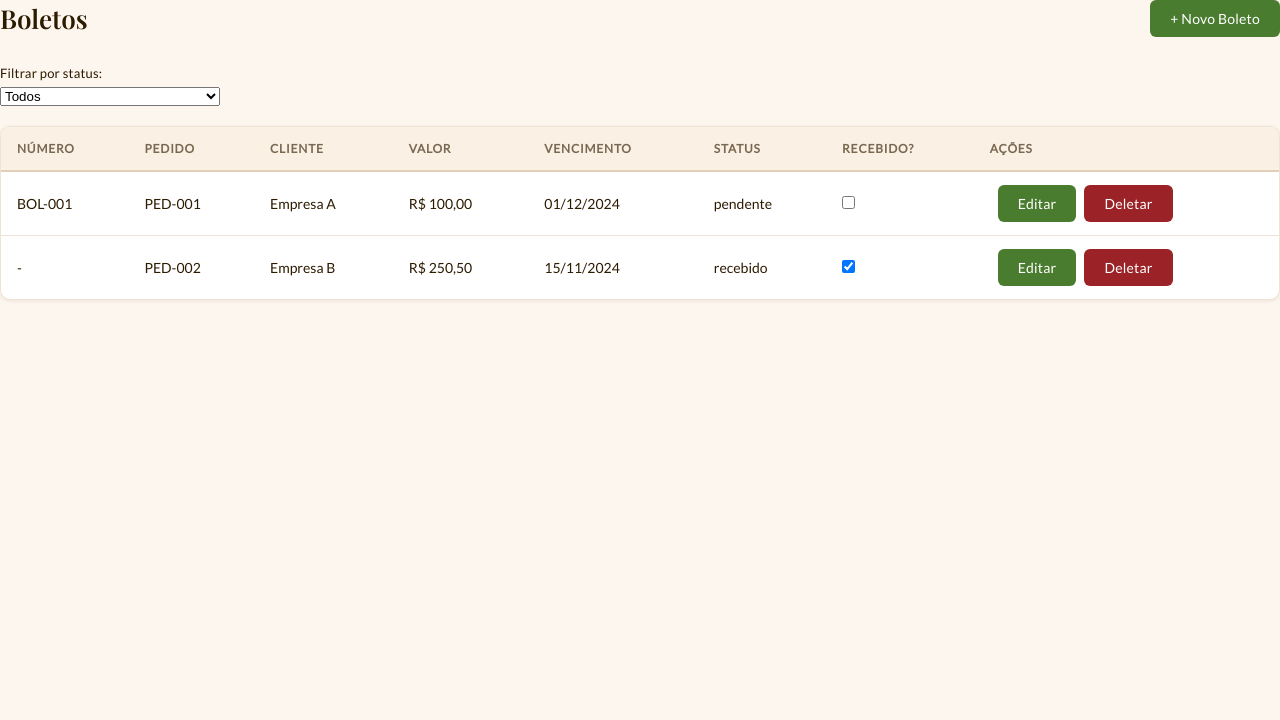
Boletos › abre modal de novo boleto ao clicar no botão
Expected: the text "BOL-001" is shown, [1, 171, 128, 236]
Click the button "+ Novo Boleto" at (1215, 18), box [1150, 0, 1279, 37]
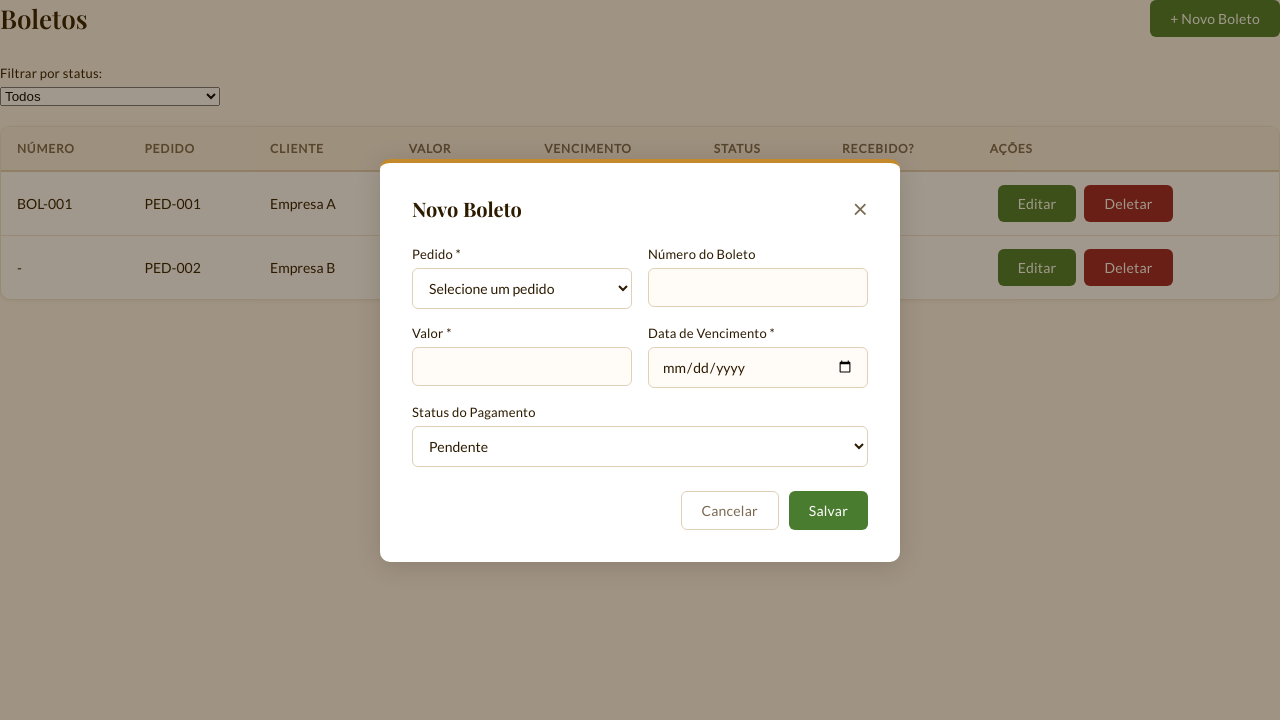
Expected: the heading "Novo Boleto" is shown, [412, 194, 522, 222]
